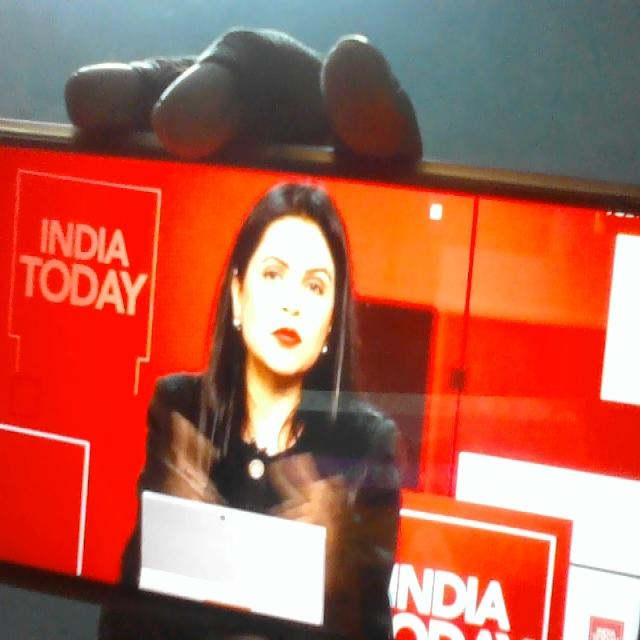fake: (222, 171, 354, 420)
